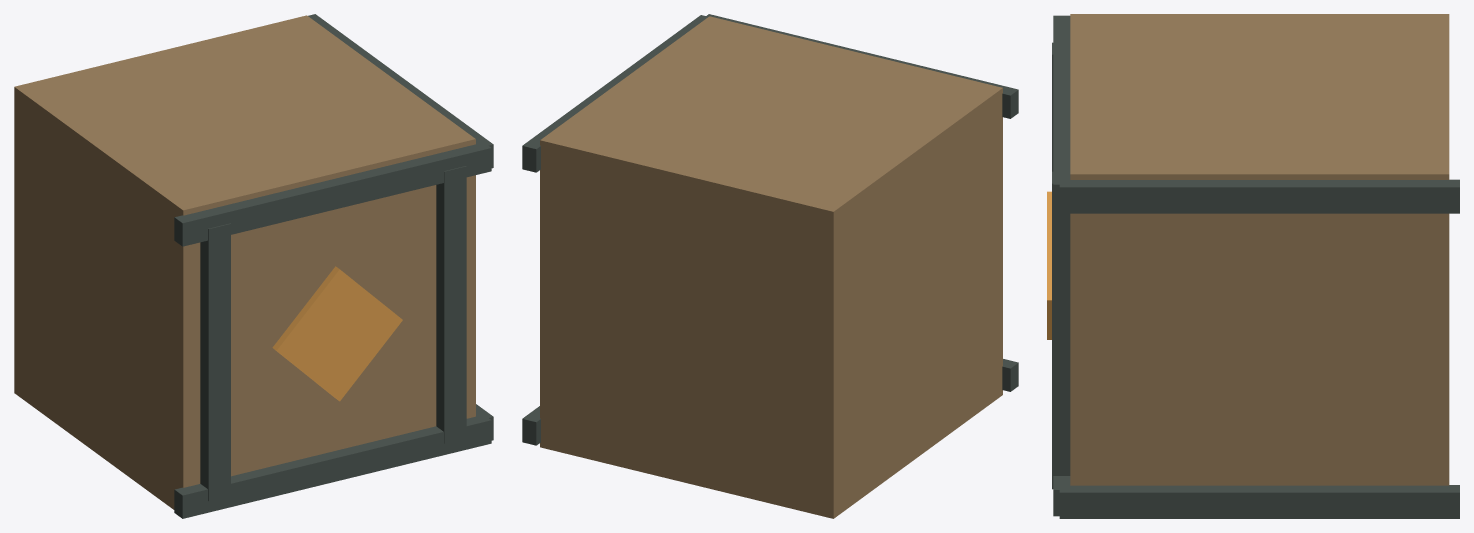
Rendered from tactical-crate.glb.
The picture shows the model from 3 angles, left to right: view 1: azimuth 30°, elevation 25°; view 2: azimuth 150°, elevation 25°; view 3: azimuth 270°, elevation 25°; orthographic projection. The views are drawn at different scales.
Visible parts, largest first — view 1: Crate, Steel band.002, Orange marking, Steel band, Front brace.001, Front brace, Steel band.003; view 2: Crate, Steel band.003, Steel band.002, Steel band.001; view 3: Crate, Steel band.003, Steel band.001, Front brace.001, Steel band.002, Orange marking.
Boxes of the visible parts, x1=… form: Crate: x1=14, y1=15, x2=475, y2=509; Steel band.002: x1=174, y1=143, x2=491, y2=246; Orange marking: x1=272, y1=266, x2=402, y2=401; Steel band: x1=174, y1=414, x2=491, y2=518; Front brace.001: x1=436, y1=166, x2=466, y2=443; Front brace: x1=200, y1=223, x2=230, y2=501; Steel band.003: x1=308, y1=14, x2=493, y2=168; Crate: x1=540, y1=16, x2=1002, y2=518; Steel band.003: x1=522, y1=15, x2=706, y2=172; Steel band.002: x1=701, y1=14, x2=1018, y2=118; Steel band.001: x1=522, y1=406, x2=540, y2=445; Crate: x1=1070, y1=14, x2=1449, y2=485; Steel band.003: x1=1059, y1=179, x2=1459, y2=213; Steel band.001: x1=1059, y1=485, x2=1459, y2=518; Front brace.001: x1=1052, y1=171, x2=1070, y2=489; Steel band.002: x1=1053, y1=15, x2=1071, y2=210; Orange marking: x1=1047, y1=191, x2=1051, y2=339.
Size of the model in its own units: 1.54 by 1.44 by 1.57.
